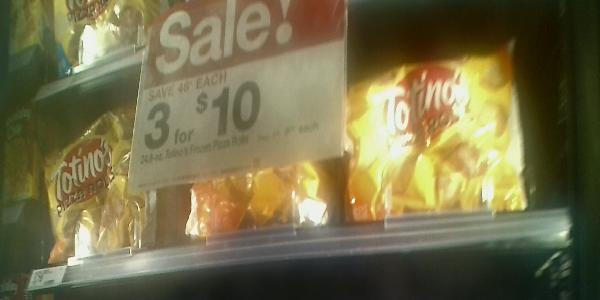icecream: (343, 31, 536, 223), (153, 116, 334, 240), (34, 120, 149, 267)
